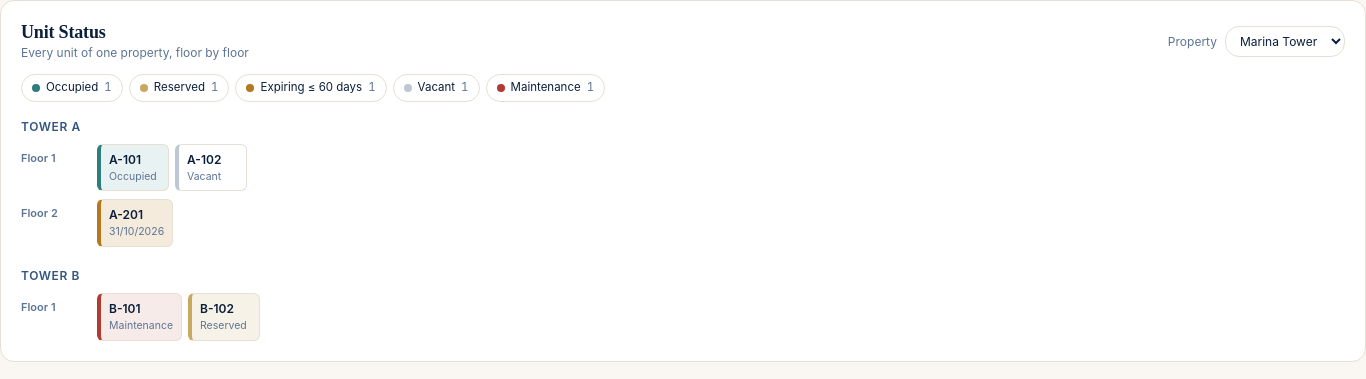
Test: Unit status board › filters by a legend status
Check: the button with test id "unit-tile-u5" is shown, box top-left (188, 293), bottom-right (260, 341)
Click the button with test id "unit-board-filter-vacant": {"x": 436, "y": 88} top-left (393, 74), bottom-right (480, 102)
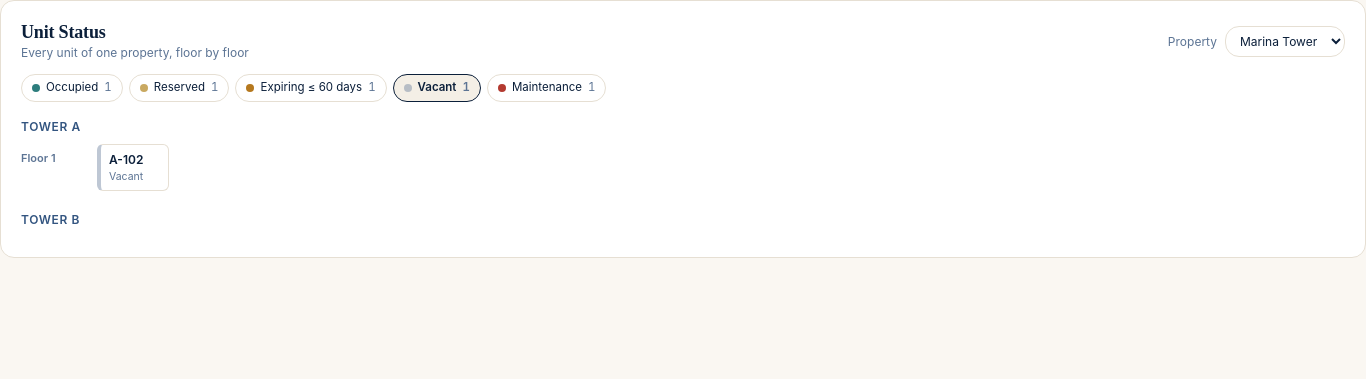
Check: the button with test id "unit-tile-u2" is shown, box top-left (97, 144), bottom-right (169, 191)
Check: the button with test id "unit-tile-u1" is gone
